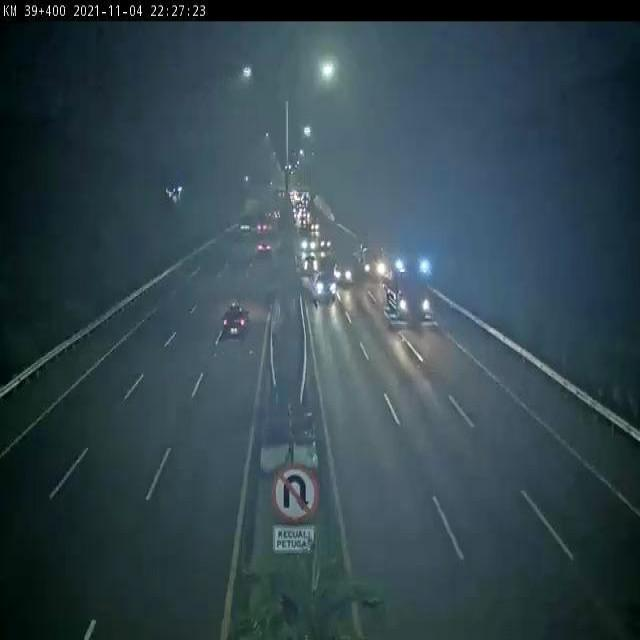car: (221, 306, 251, 338), (314, 269, 337, 303), (334, 260, 353, 283)
mid truck: (303, 254, 320, 274)
truck-l-: (383, 248, 430, 321)
truck-xl-: (354, 240, 384, 277)
